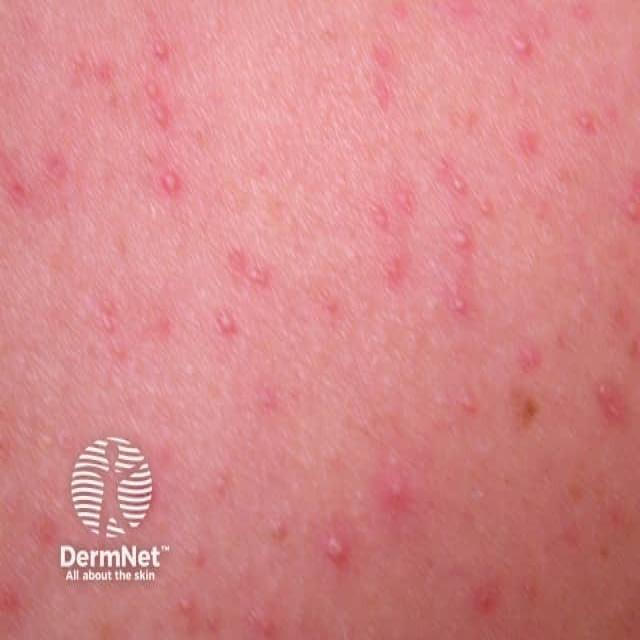fungal: (1, 25, 639, 640)
